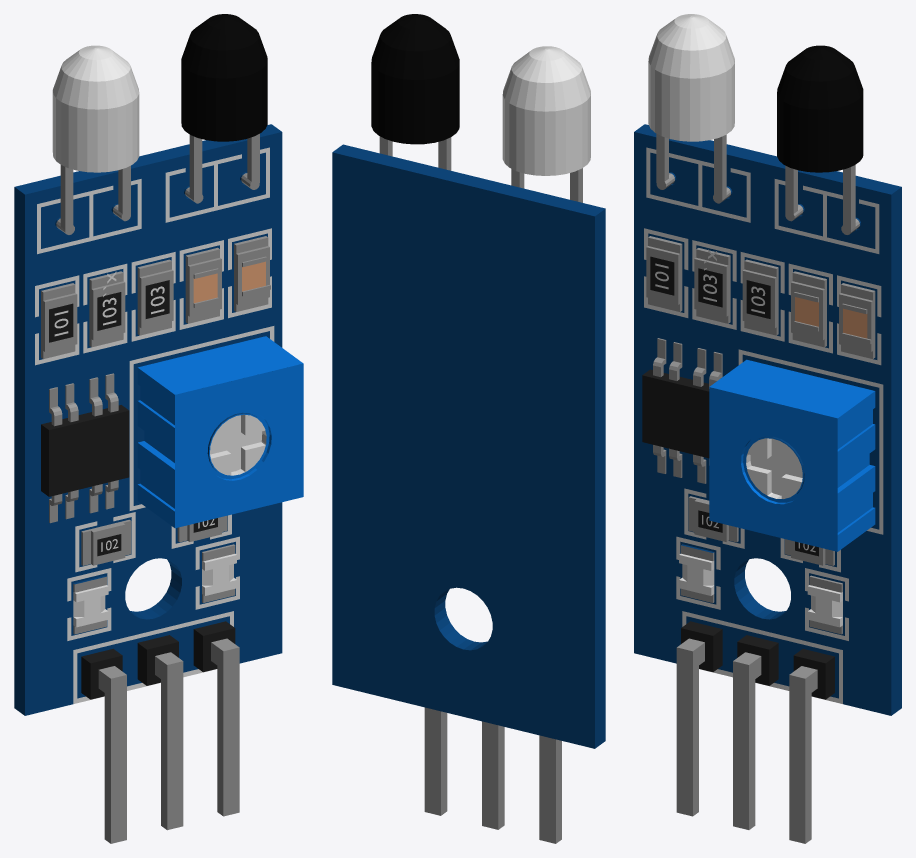
Rendered from IRSensor.glb.
3 views of the same model, side by side, from view 1: azimuth 30°, elevation 25°; view 2: azimuth 150°, elevation 25°; view 3: azimuth 330°, elevation 25° (orthographic). The views are drawn at different scales.
Parts seen in each view (by area): view 1: IR Sensor, IR Sensor.004, IR Sensor.005, IR Sensor.003, IR Sensor.002, IR Sensor.001; view 2: IR Sensor, IR Sensor.005, IR Sensor.004, IR Sensor.003, IR Sensor.001, IR Sensor.002; view 3: IR Sensor, IR Sensor.004, IR Sensor.005, IR Sensor.003, IR Sensor.001, IR Sensor.002.
Part boxes in pixels (x1,y1,x2,y2): IR Sensor: (14, 124, 303, 715); IR Sensor.004: (52, 45, 139, 172); IR Sensor.005: (181, 14, 267, 141); IR Sensor.003: (211, 638, 239, 816); IR Sensor.002: (155, 652, 183, 830); IR Sensor.001: (98, 666, 126, 843); IR Sensor: (332, 136, 605, 748); IR Sensor.005: (371, 14, 459, 144); IR Sensor.004: (502, 46, 590, 175); IR Sensor.003: (424, 707, 447, 815); IR Sensor.001: (539, 735, 561, 843); IR Sensor.002: (482, 721, 504, 829); IR Sensor: (634, 124, 901, 715); IR Sensor.004: (648, 14, 734, 141); IR Sensor.005: (777, 45, 863, 172); IR Sensor.003: (789, 666, 817, 843); IR Sensor.001: (676, 638, 704, 816); IR Sensor.002: (733, 652, 761, 829).
Size of the model in its own units: 0.2997 by 0.8737 by 0.1058.
